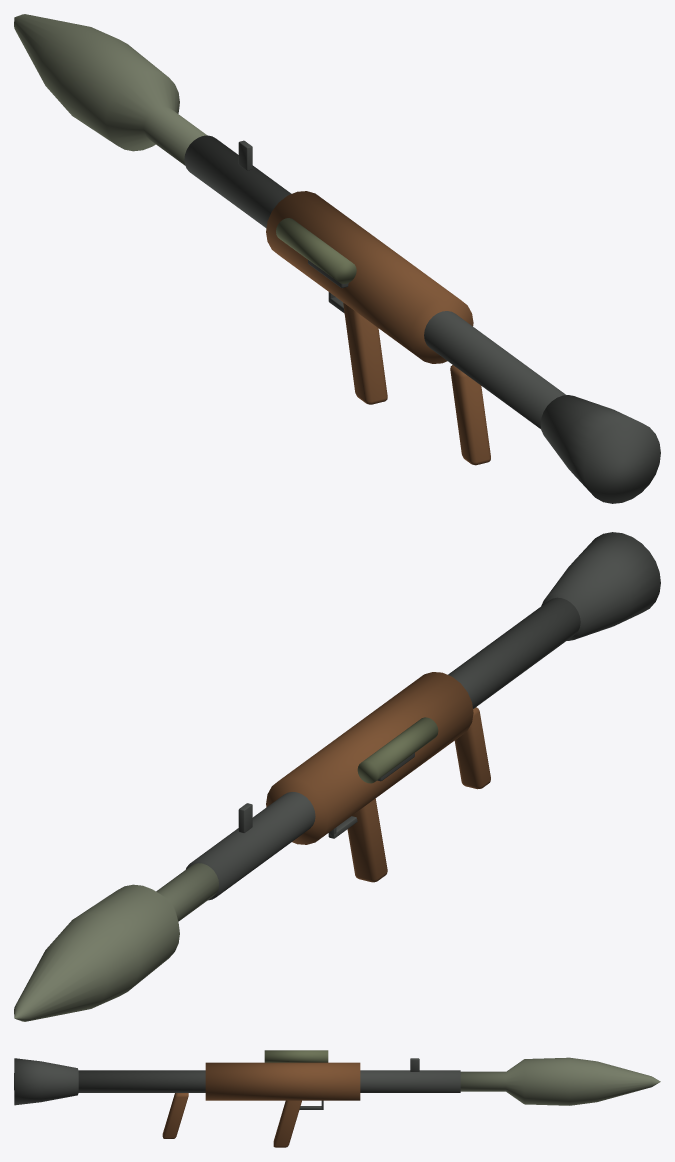
The model's file is rpg7.glb.
The picture shows the model from 3 angles, top to bottom: view 1: azimuth 30°, elevation 25°; view 2: azimuth 150°, elevation 25°; view 3: azimuth 270°, elevation 25°; orthographic projection. The views are drawn at different scales.
Parts seen in each view (by area): view 1: RPG7; view 2: RPG7; view 3: RPG7.
Part boxes in pixels (x1=…): RPG7: x1=14, y1=14, x2=660, y2=503; RPG7: x1=14, y1=532, x2=660, y2=1021; RPG7: x1=14, y1=1050, x2=660, y2=1147.
Bounding box in the file's own units: 0.122 × 0.21 × 1.42.
